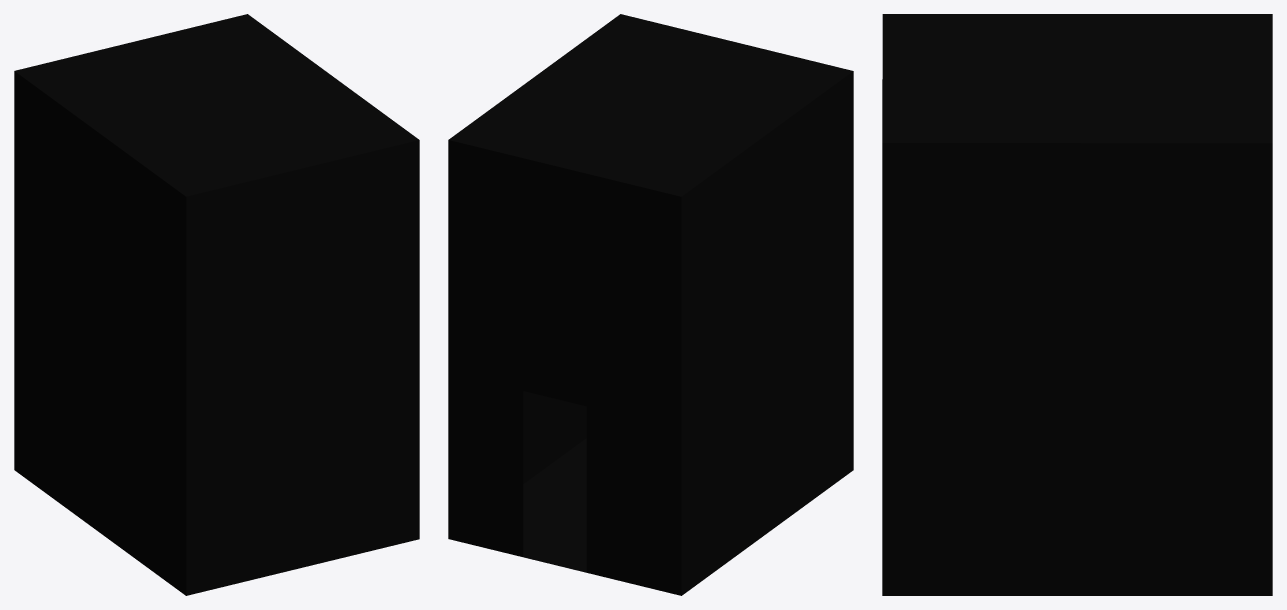
The model's file is Worker Room 2.fbx.
3 views of the same model, side by side, from view 1: azimuth 30°, elevation 25°; view 2: azimuth 150°, elevation 25°; view 3: azimuth 270°, elevation 25° (orthographic). The views are drawn at different scales.
Parts seen in each view (by area): view 1: Worker Room 2_Baked, Worker Room root_Baked; view 2: Worker Room 2_Baked, Worker Room root_Baked, Floor.011_Baked; view 3: Worker Room 2_Baked, Worker Room root_Baked.
Part boxes in pixels (x1,y1,x2,y2): Worker Room 2_Baked: [14, 71, 419, 595]; Worker Room root_Baked: [15, 14, 418, 196]; Worker Room 2_Baked: [448, 71, 853, 595]; Worker Room root_Baked: [448, 14, 852, 196]; Floor.011_Baked: [523, 438, 586, 572]; Worker Room 2_Baked: [882, 143, 1272, 595]; Worker Room root_Baked: [882, 14, 1272, 143].
Size of the model in its own units: 294 by 480 by 375.
